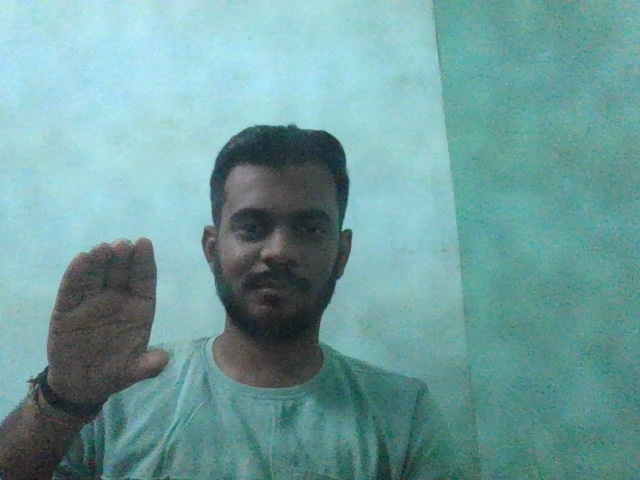no: (45, 235, 180, 401)
